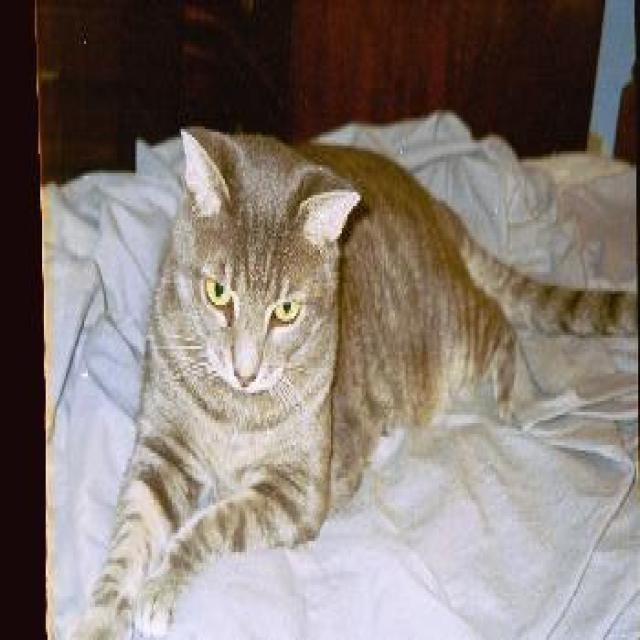Cats: (68, 121, 636, 637)
